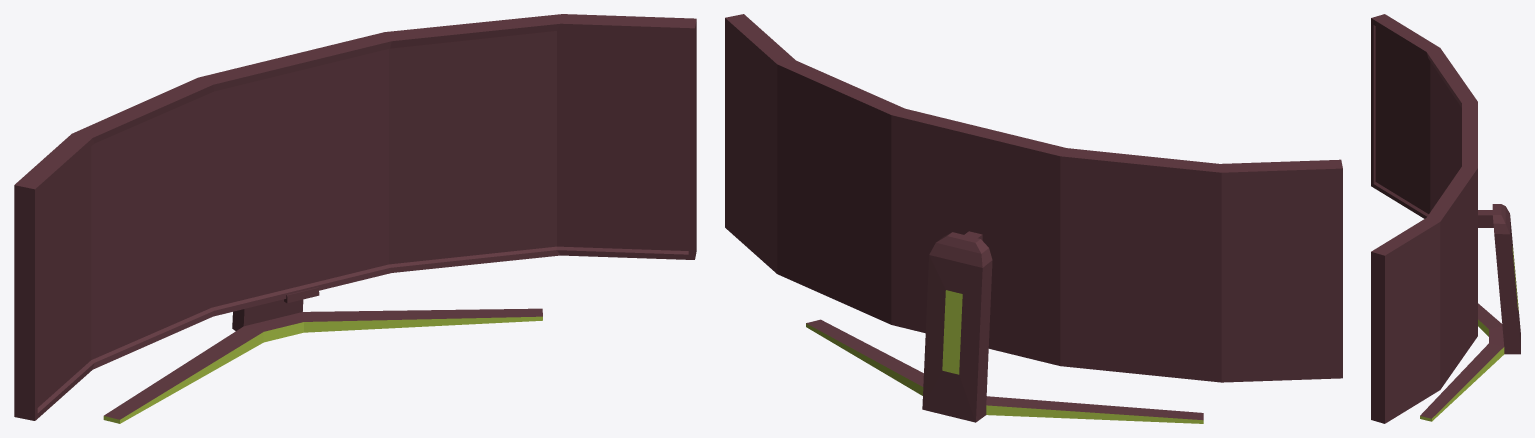
Rendered from electronics-pc-monitor-gaming.glb.
3 renders of one model, left to right at view 1: azimuth 30°, elevation 25°; view 2: azimuth 150°, elevation 25°; view 3: azimuth 270°, elevation 25°, orthographic. The views are drawn at different scales.
Parts seen in each view (by area): view 1: pc-monitor-gaming; view 2: pc-monitor-gaming; view 3: pc-monitor-gaming.
Boxes of the visible parts, x1,y1,x2,y2 form: pc-monitor-gaming: (14, 14, 696, 423); pc-monitor-gaming: (725, 14, 1342, 423); pc-monitor-gaming: (1371, 14, 1520, 423).
Size of the model in its own units: 1.12 by 0.4525 by 0.2939.
